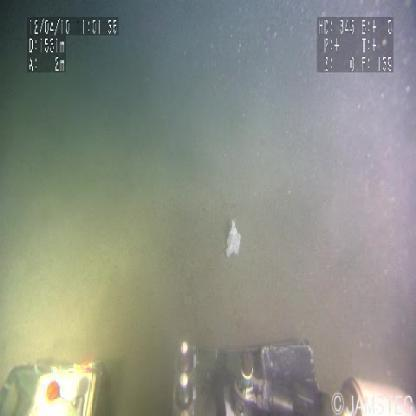Rác: (225, 218, 244, 261)
